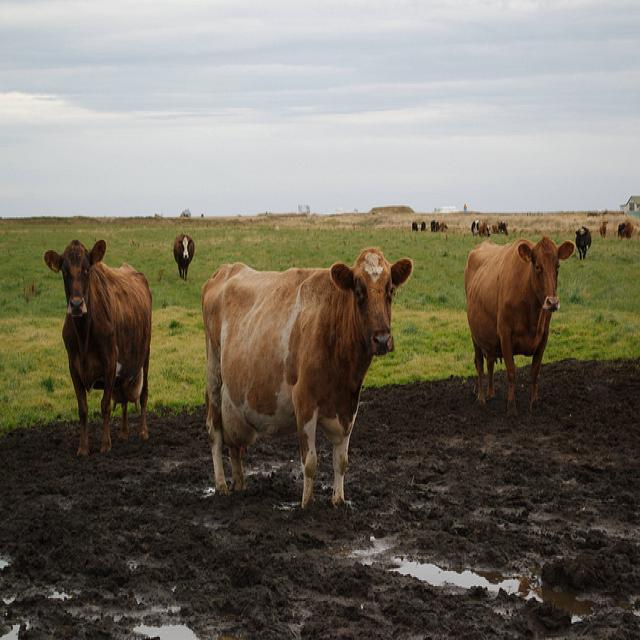cow: (200, 244, 411, 508), (44, 234, 151, 456), (460, 231, 575, 418), (427, 218, 498, 233), (172, 229, 193, 279), (573, 223, 590, 258), (616, 219, 633, 235), (476, 217, 488, 234), (597, 219, 607, 237), (469, 217, 478, 234), (497, 221, 506, 233), (438, 221, 446, 230), (410, 219, 417, 229), (419, 219, 426, 229)
